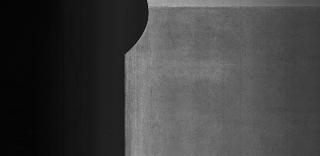welding line: (144, 4, 320, 12)
